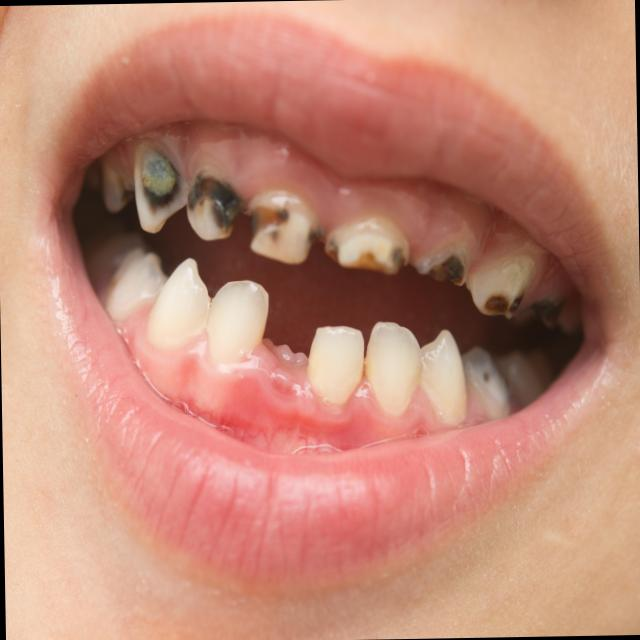Caries: (187, 174, 240, 231), (518, 293, 565, 329), (425, 253, 464, 284), (144, 183, 179, 212), (484, 294, 508, 313), (507, 292, 523, 313), (251, 213, 258, 234), (309, 231, 321, 242), (393, 249, 400, 261), (279, 211, 287, 220), (398, 257, 404, 269), (483, 372, 489, 382)
Cavity: (246, 202, 288, 244)
Tooth: (245, 190, 326, 265), (147, 257, 211, 348), (364, 321, 422, 414), (208, 279, 269, 363), (325, 216, 410, 276), (133, 143, 188, 233), (104, 246, 168, 322), (307, 325, 364, 405), (419, 329, 466, 424), (466, 256, 535, 320), (187, 164, 241, 240), (461, 344, 513, 418), (415, 242, 471, 287)
